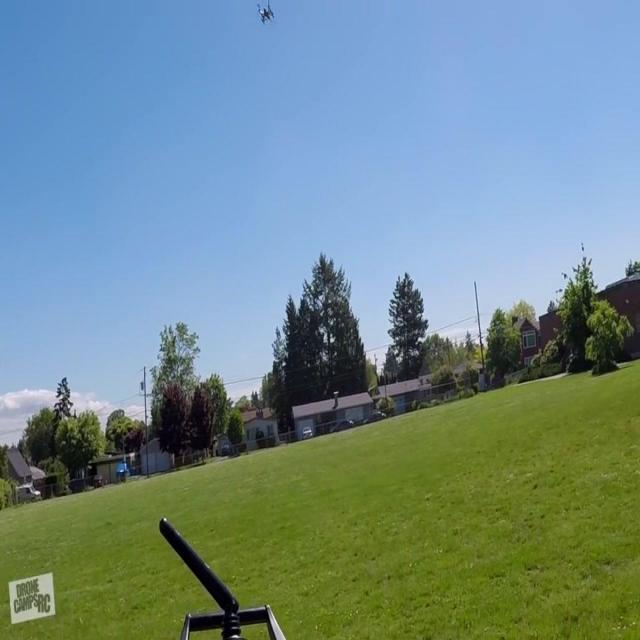UAV: (257, 0, 275, 25)
